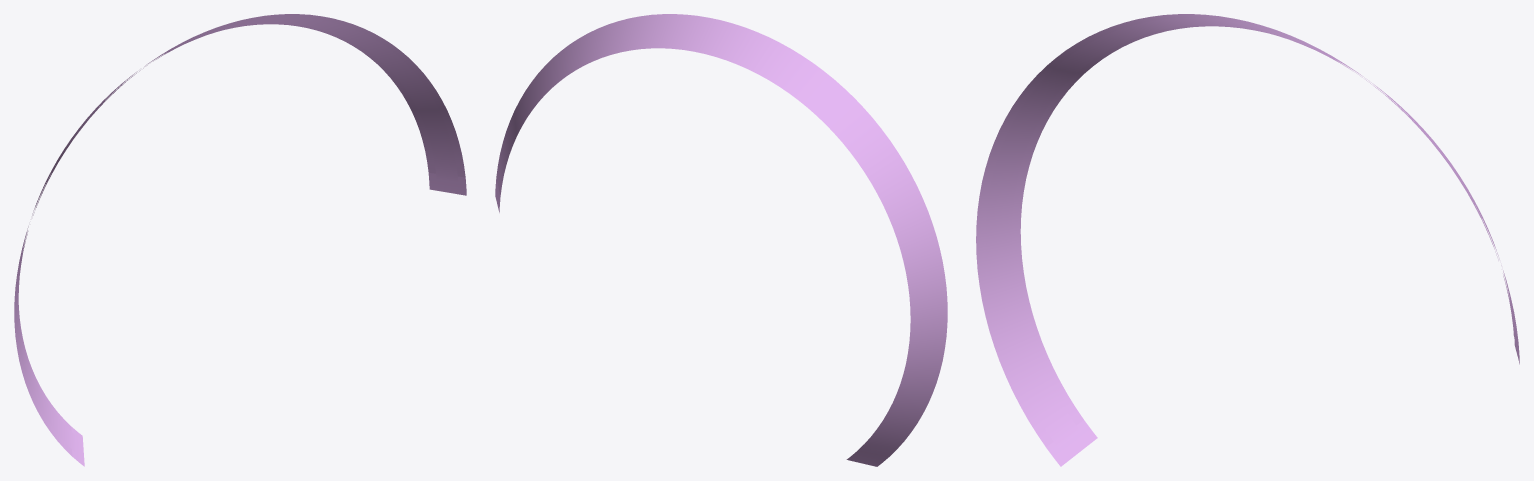
The model's file is Mesh_Note_38.fbx.
The picture shows the model from 3 angles, left to right: view 1: azimuth 30°, elevation 25°; view 2: azimuth 150°, elevation 25°; view 3: azimuth 330°, elevation 25°; orthographic projection. The views are drawn at different scales.
Visible parts, largest first — view 1: Mesh_Note_38; view 2: Mesh_Note_38; view 3: Mesh_Note_38.
Boxes of the visible parts, <box> form: Mesh_Note_38: <box>14,14,466,466</box>; Mesh_Note_38: <box>495,14,947,466</box>; Mesh_Note_38: <box>976,14,1519,466</box>.
Size of the model in its own units: 3.56 by 3.07 by 0.2235.
